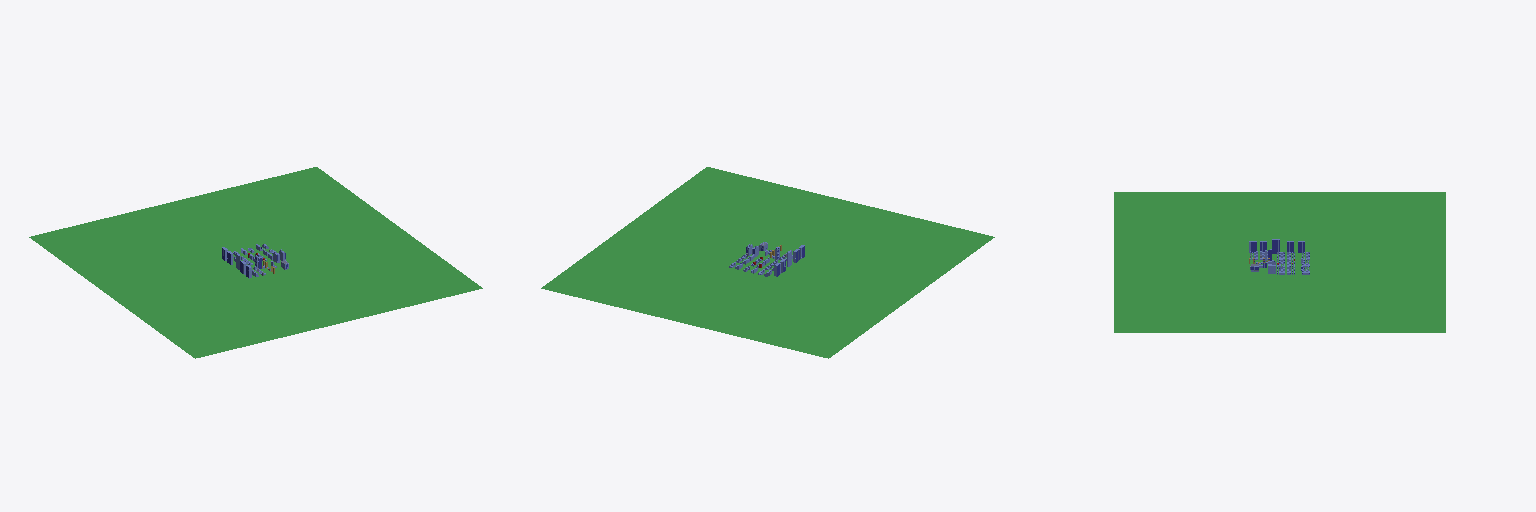
File: building3.obj
The picture shows the model from 3 angles: view 1: azimuth 30°, elevation 25°; view 2: azimuth 150°, elevation 25°; view 3: azimuth 270°, elevation 25°; orthographic projection.
Visible parts, largest first — view 1: Plane; view 2: Plane; view 3: Plane.
Part boxes in pixels (left/top/right/bottom): Plane: left=29, top=167, right=482, bottom=358; Plane: left=541, top=167, right=994, bottom=358; Plane: left=1114, top=192, right=1445, bottom=332.
Bounding box in the file's own units: 400 × 19.47 × 400.